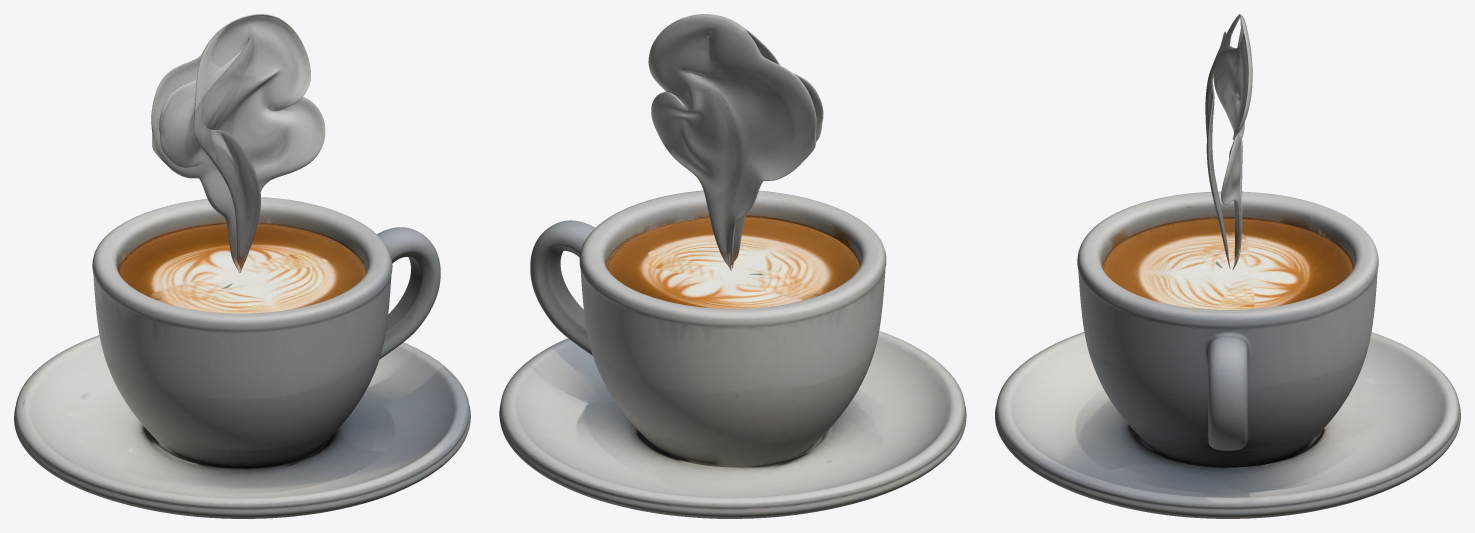
File: cup.glb
3 renders of one model, left to right at view 1: azimuth 30°, elevation 25°; view 2: azimuth 150°, elevation 25°; view 3: azimuth 270°, elevation 25°, orthographic. The views are drawn at different scales.
Visible parts, largest first — view 1: node_0; view 2: node_0; view 3: node_0.
Boxes of the visible parts, x1,y1,x2,y2 form: node_0: (14, 14, 470, 518); node_0: (499, 14, 966, 518); node_0: (995, 14, 1460, 518).
Bounding box in the file's own units: 0.9083 × 0.9463 × 0.9085.
1 material, 1 textured.
